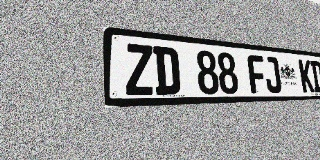8: (195, 50, 220, 94), (216, 52, 239, 94)
D: (153, 46, 181, 95), (310, 60, 320, 92)
F: (247, 55, 267, 93)
J: (263, 56, 282, 93)
K: (298, 59, 315, 93)
Z: (124, 43, 155, 95)
